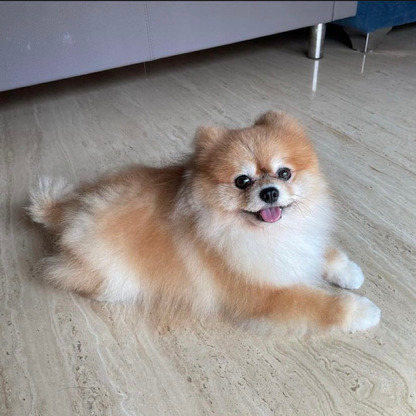Pomeranian: (23, 91, 400, 350)
